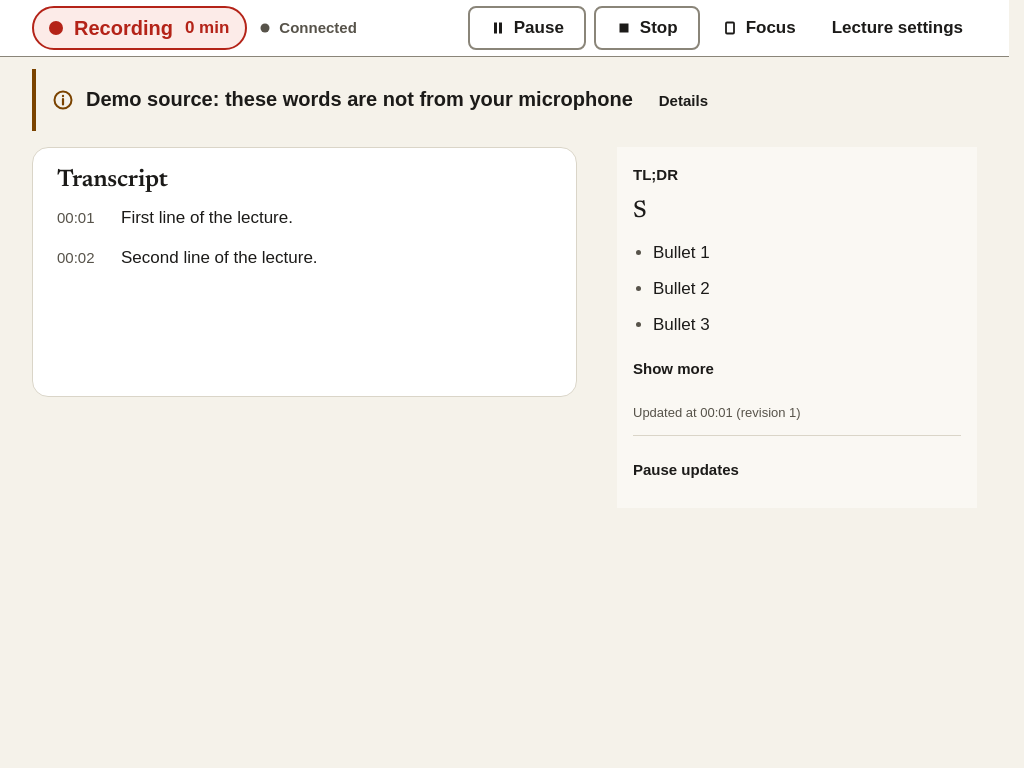
Test: Live view (UX section 2) › Show more reveals bullets 4 to 7 only
Expected: the text "Bullet 4" is not shown
Click the button "Show more": {"x": 673, "y": 369} [619,347,728,391]
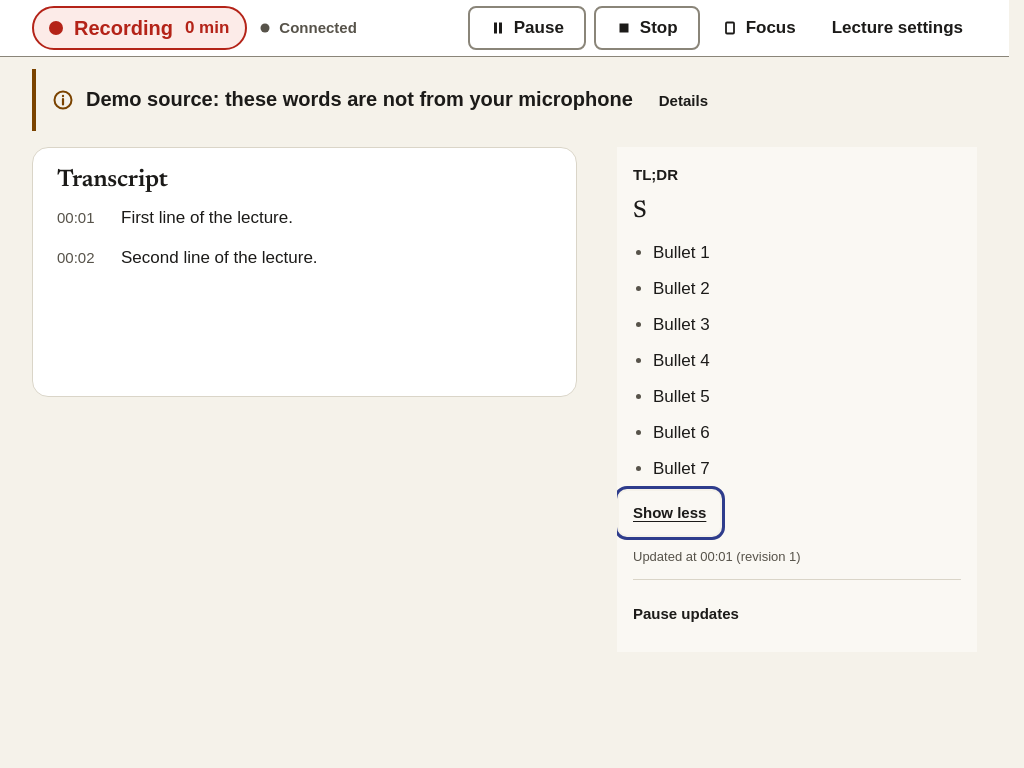
Expected: the text "Bullet 7" is shown, [653,459,710,478]
